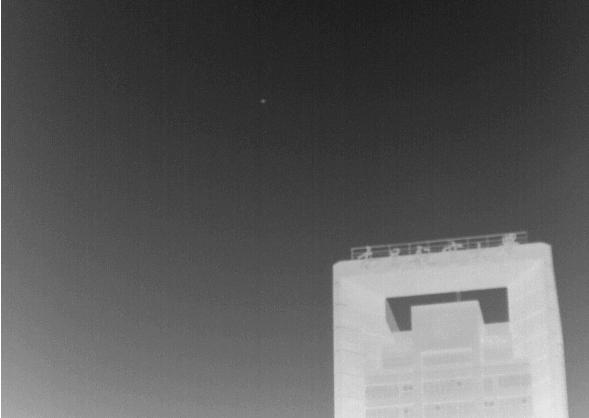dim target: (259, 98, 266, 103)
